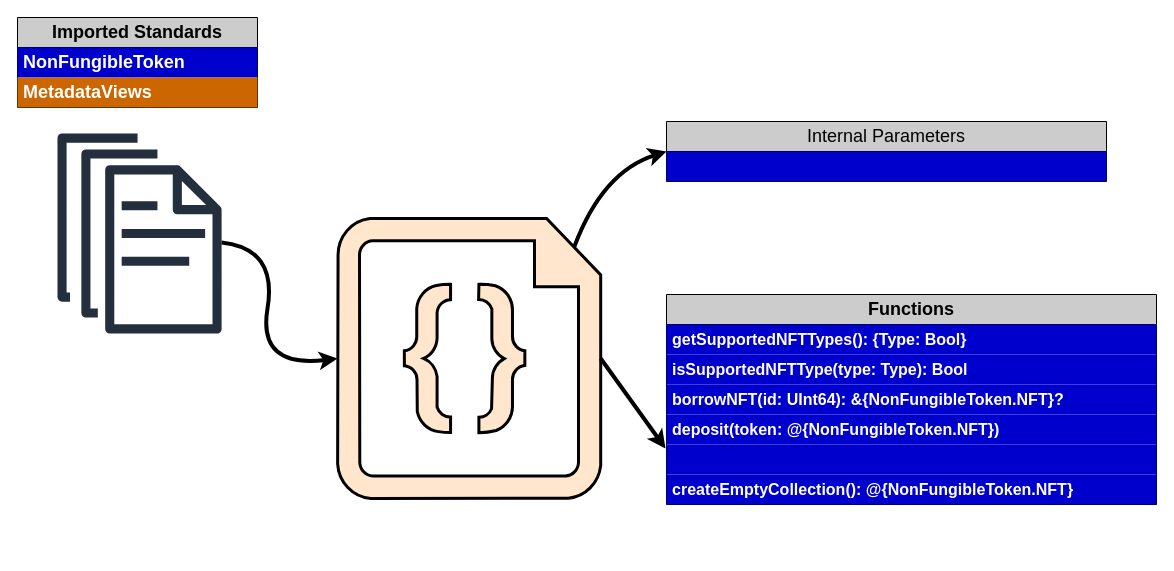
The diagram is 1174 pixels wide and 571 high, and some of its shapes have lost their labels. Here are the shapes that lost their labels. From the top down, the centre of each, then its label:
At (886,166): "ownedNFTs: @{UInt64: {NonFungibleToken.NFT}}".
At (469,358): "Cadence Collection Resource".
At (911,459): "withdraw(withdrawID: UInt64): @{NonFungibleToken.NFT}".
